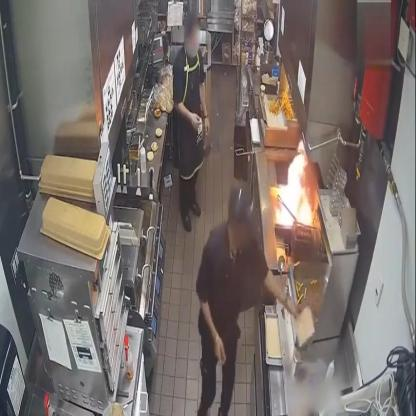fire: (275, 136, 316, 231)
